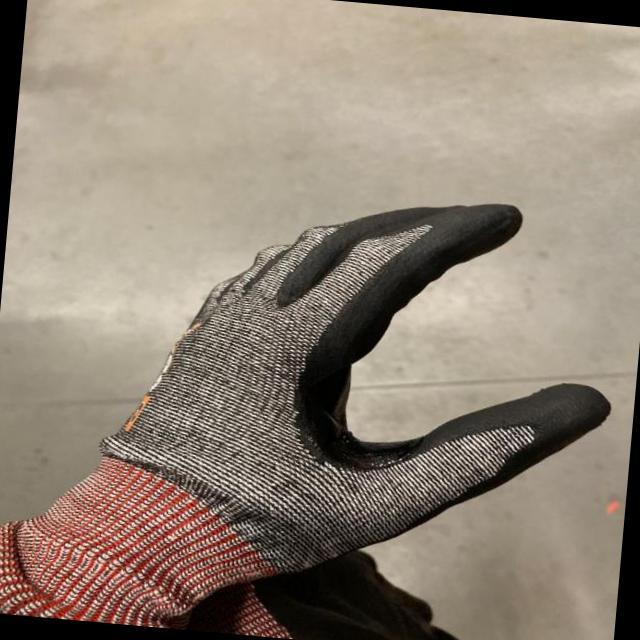glove: (0, 199, 619, 628)
